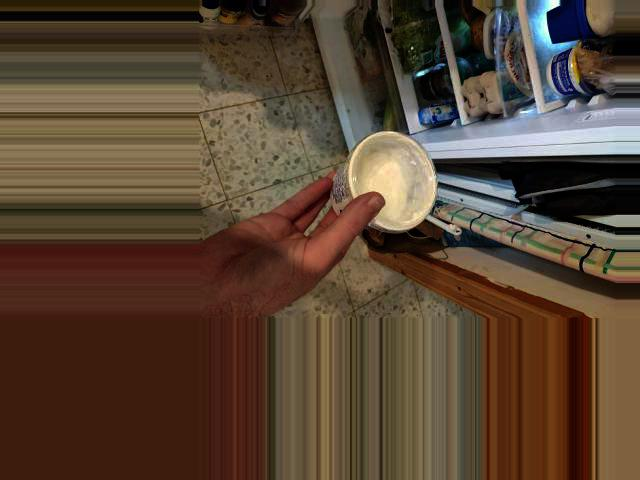cotage: (321, 142, 443, 239)
